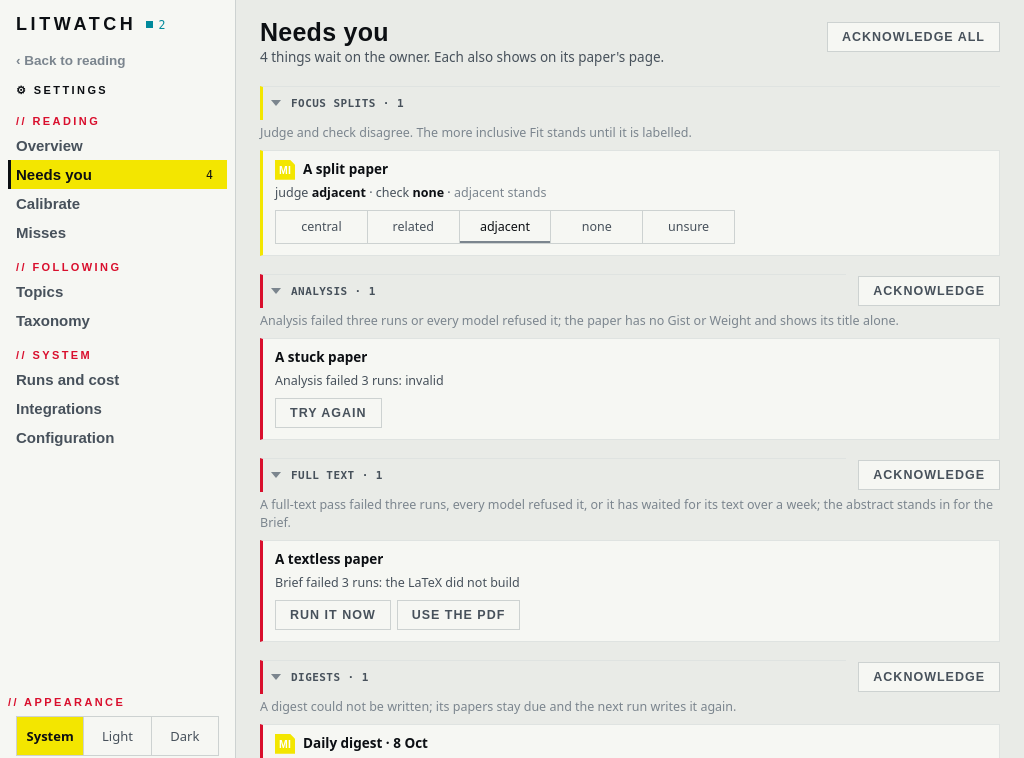
Test: Settings › settles a split in place: the label is recorded, the item keeps its spot and the count drops
The width and height of the screenshot is (1024, 758).
Expected: the text "4 things wait on the owner. Each also shows on its paper's page." is shown, [260,48,664,66]
Expected: the text "A split paper" shows "adjacent stands", [260,150,1000,256]
Click the button "related".
click(413, 227)  # box [367,210,460,244]
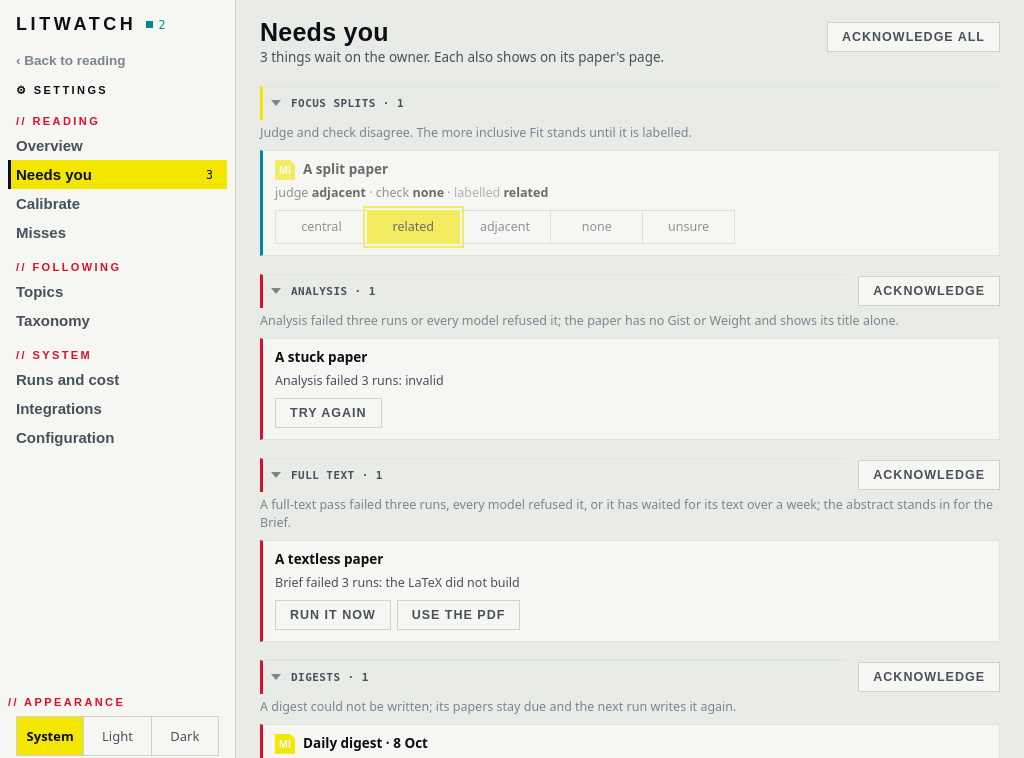
Now the text "A split paper" shows "labelled related", box [260,150,1000,256]
Now the text "3 things wait on the owner. Each also shows on its paper's page." is shown, box [260,48,664,66]
Now the text "4" reads "3", box [206,168,213,182]
# Tapping the label's segment again takes it back: the split waits once more, where it was.
Click the button "related".
click(413, 227)  # box [367,210,460,244]
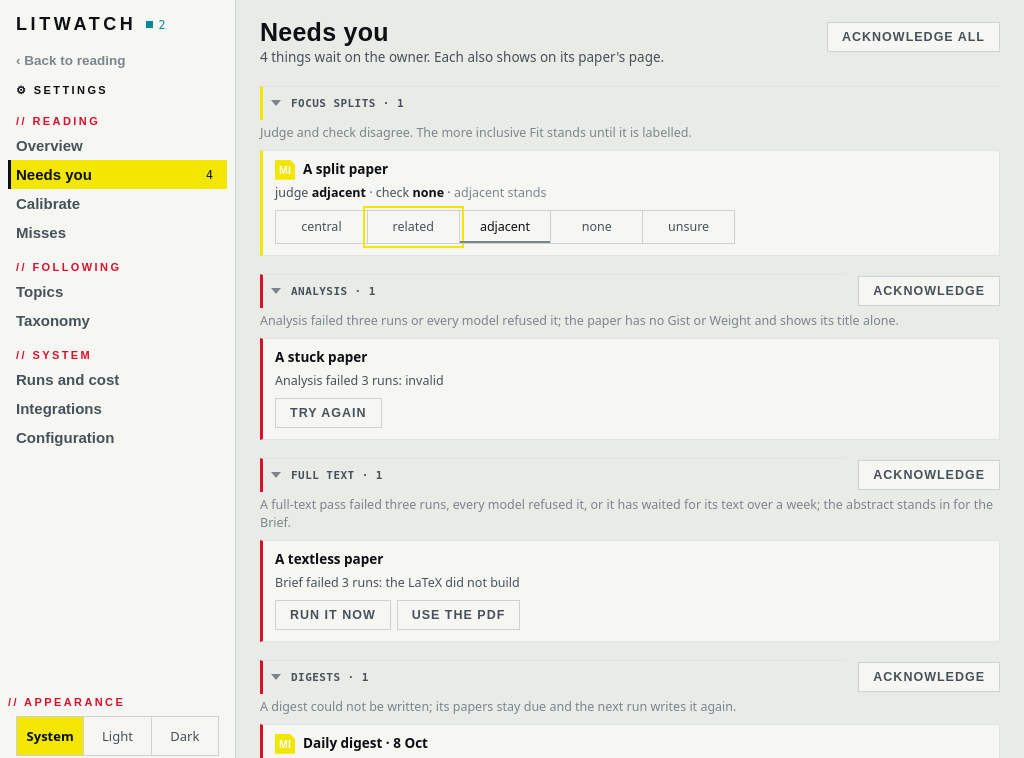
Now the text "A split paper" shows "adjacent stands", box [260,150,1000,256]
Now the text "4 things wait on the owner. Each also shows on its paper's page." is shown, box [260,48,664,66]
